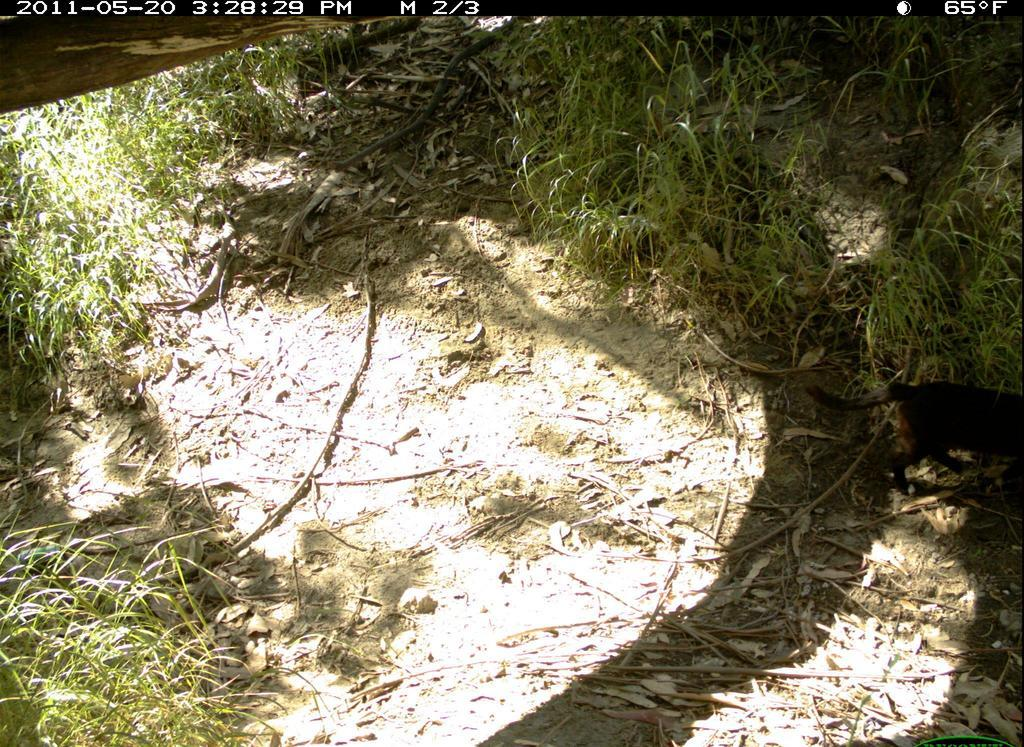cat: (797, 365, 1021, 502)
